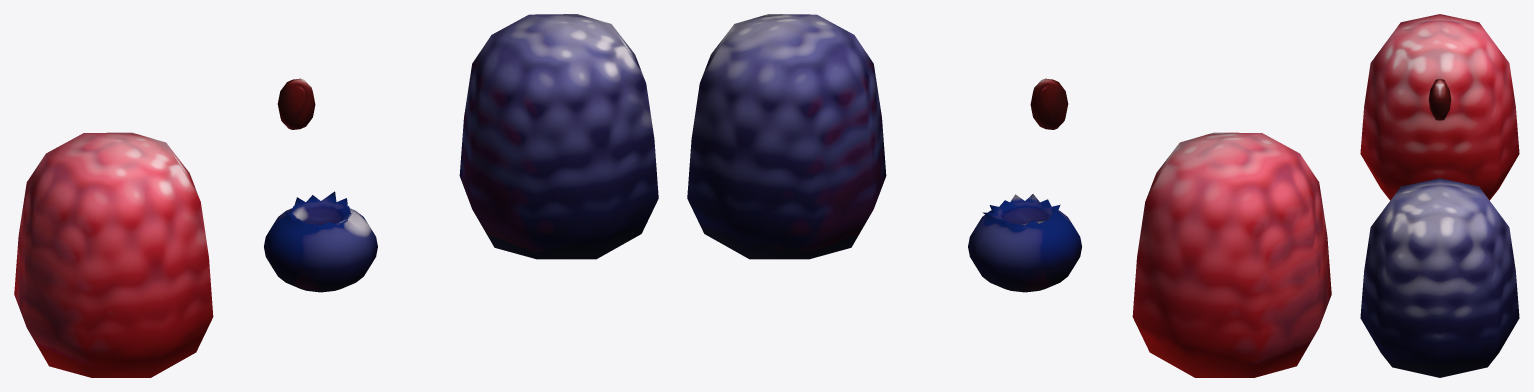
The model's file is berrys.fbx.
3 views of the same model, side by side, from view 1: azimuth 30°, elevation 25°; view 2: azimuth 150°, elevation 25°; view 3: azimuth 270°, elevation 25° (orthographic). The views are drawn at different scales.
Parts seen in each view (by area): view 1: blackberry, raspberry, blueberry, coffe; view 2: blackberry, raspberry, blueberry, coffe; view 3: blackberry, raspberry, coffe.
Part boxes in pixels (bbox=[...]): blackberry: bbox=[459, 14, 658, 259]; raspberry: bbox=[14, 132, 213, 377]; blueberry: bbox=[264, 191, 377, 292]; coffe: bbox=[277, 78, 315, 129]; blackberry: bbox=[687, 14, 886, 259]; raspberry: bbox=[1132, 132, 1331, 377]; blueberry: bbox=[968, 194, 1081, 292]; coffe: bbox=[1030, 78, 1068, 129]; blackberry: bbox=[1360, 178, 1519, 377]; raspberry: bbox=[1360, 14, 1519, 200]; coffe: bbox=[1428, 79, 1451, 120].
Bounding box in the file's own units: 172 × 59.96 × 48.35.
1 material, 1 textured.
